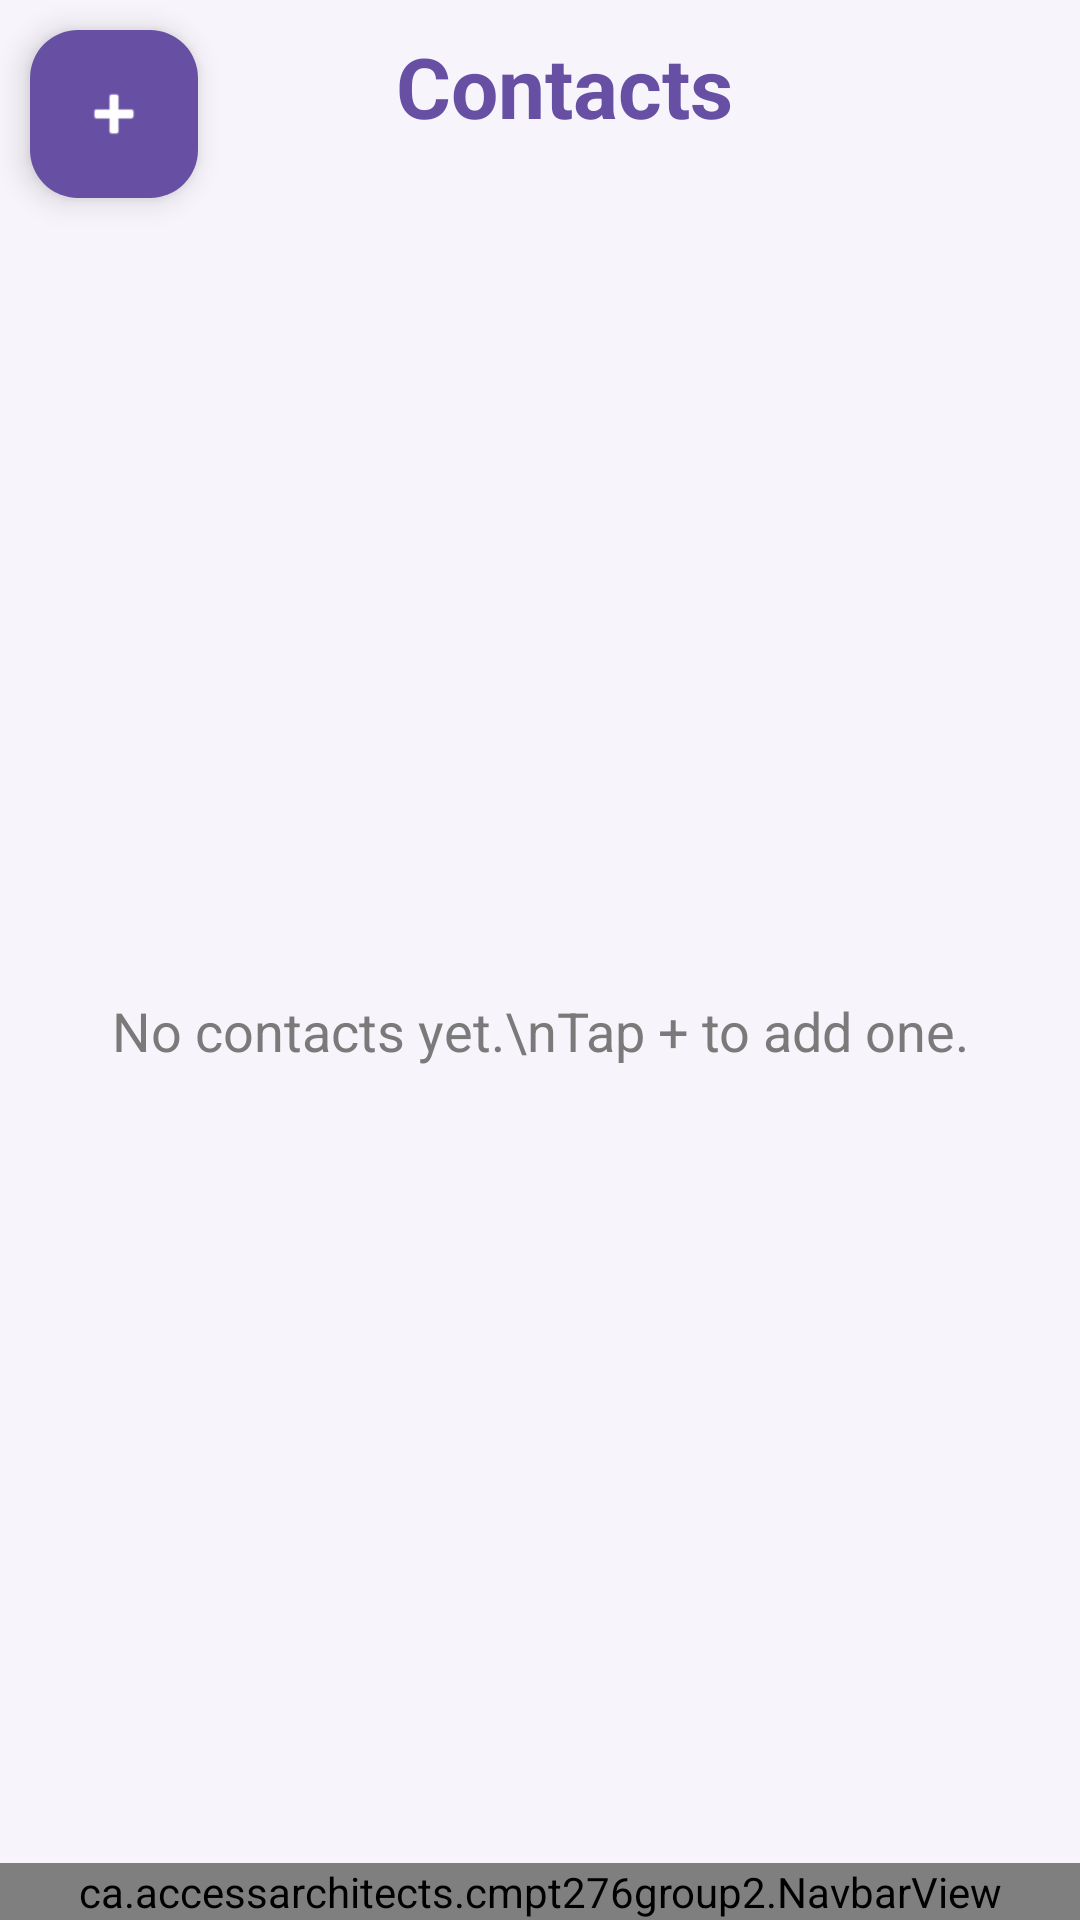

Icon bounding boxes for this 1080px x 1920px phone screenshot, format (x1,y1,x2,y2):
Add contact: (30,30,198,198)
